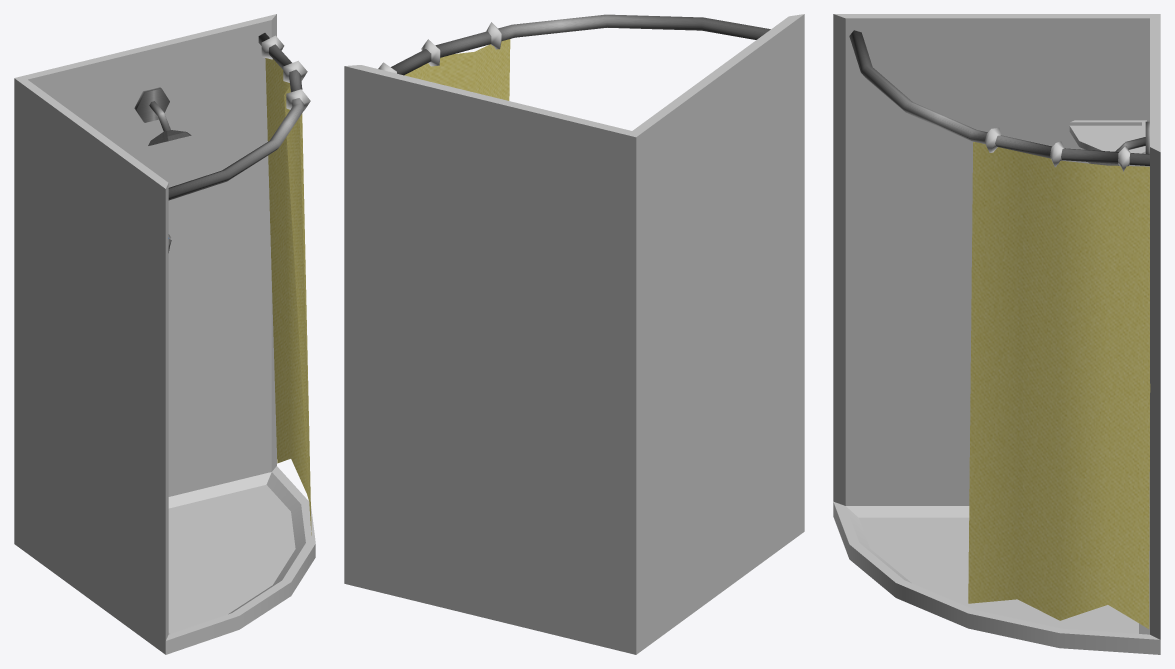
File: Shower_Stall_E.FBX
3 views of the same model, side by side, from view 1: azimuth 30°, elevation 25°; view 2: azimuth 150°, elevation 25°; view 3: azimuth 270°, elevation 25° (orthographic). The views are drawn at different scales.
Visible parts, largest first — view 1: Shower_Stall; view 2: Shower_Stall; view 3: Shower_Stall.
Boxes of the visible parts, x1,y1,x2,y2 form: Shower_Stall: (14, 14, 315, 654); Shower_Stall: (344, 14, 804, 654); Shower_Stall: (833, 14, 1160, 654).
Size of the model in its own units: 295 by 500 by 295.
